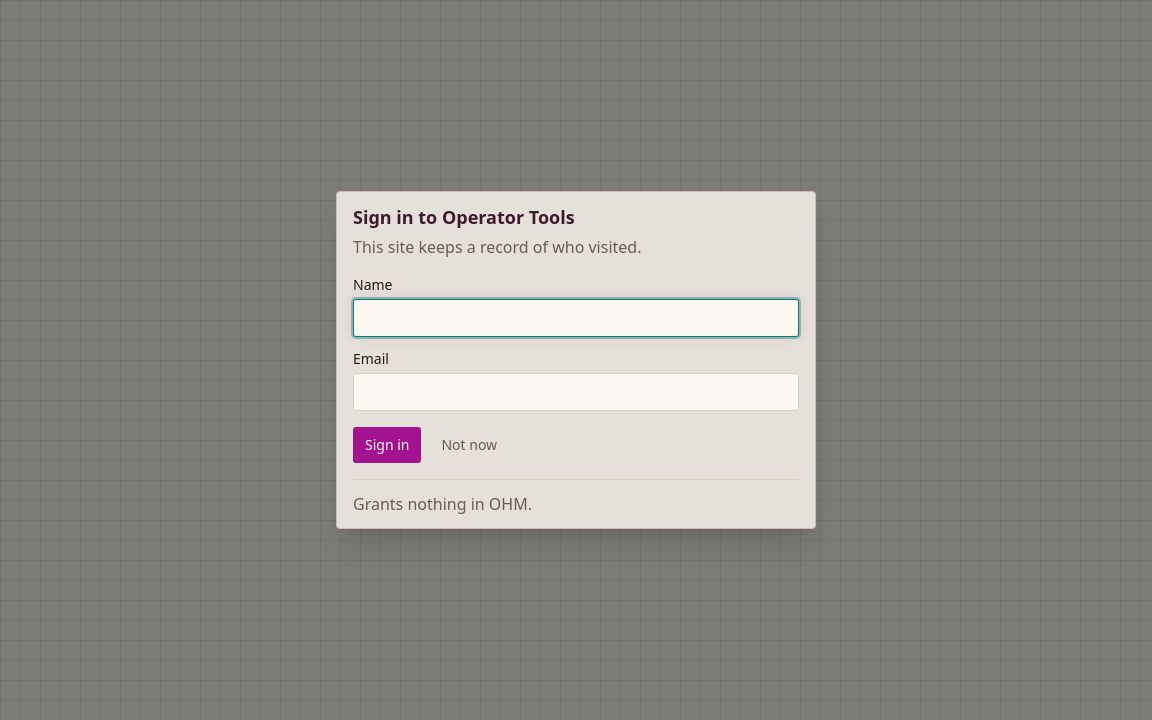
Scenario: Gate › says so when sign-in fails, and says the app is unaffected
Step 1. Type "Ada" into the field labelled "Name" → [576, 318], box [353, 299, 799, 337]
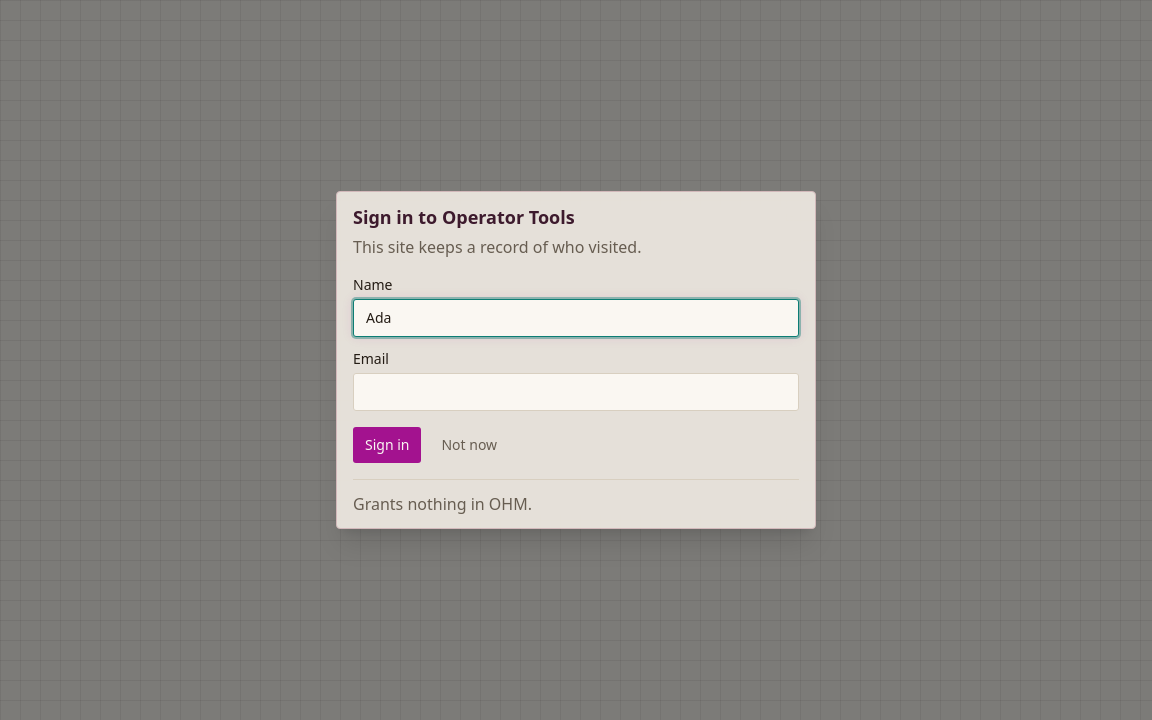
Step 2. Type "ada@example.org" into the field labelled "Email" → [576, 392], box [353, 373, 799, 411]
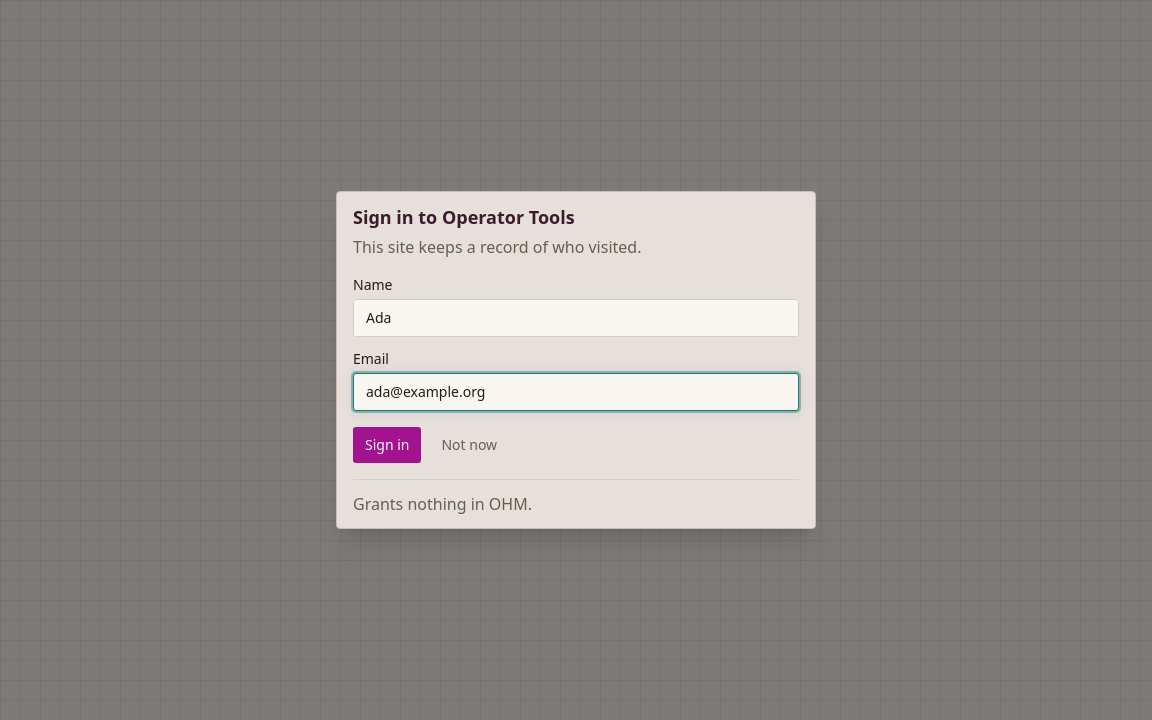
Step 3. Click the button "Sign in" → [387, 445], box [353, 427, 422, 463]
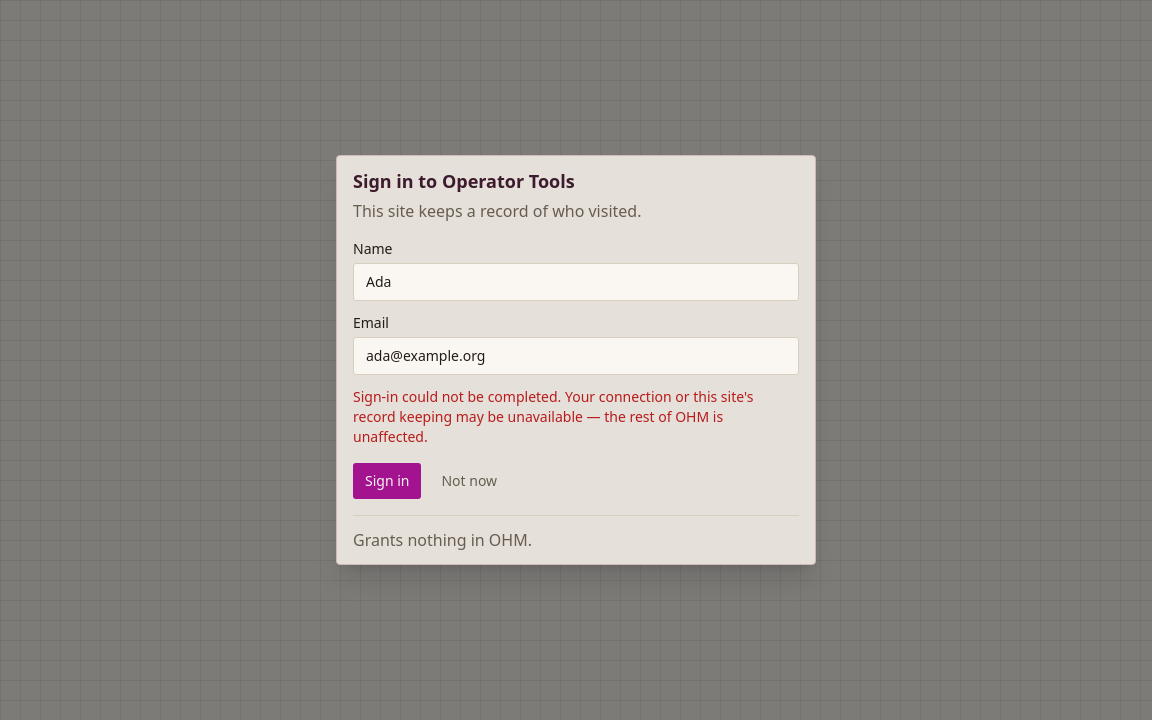
Expected: the message shows "rest of OHM is unaffected", [353, 387, 753, 446]
